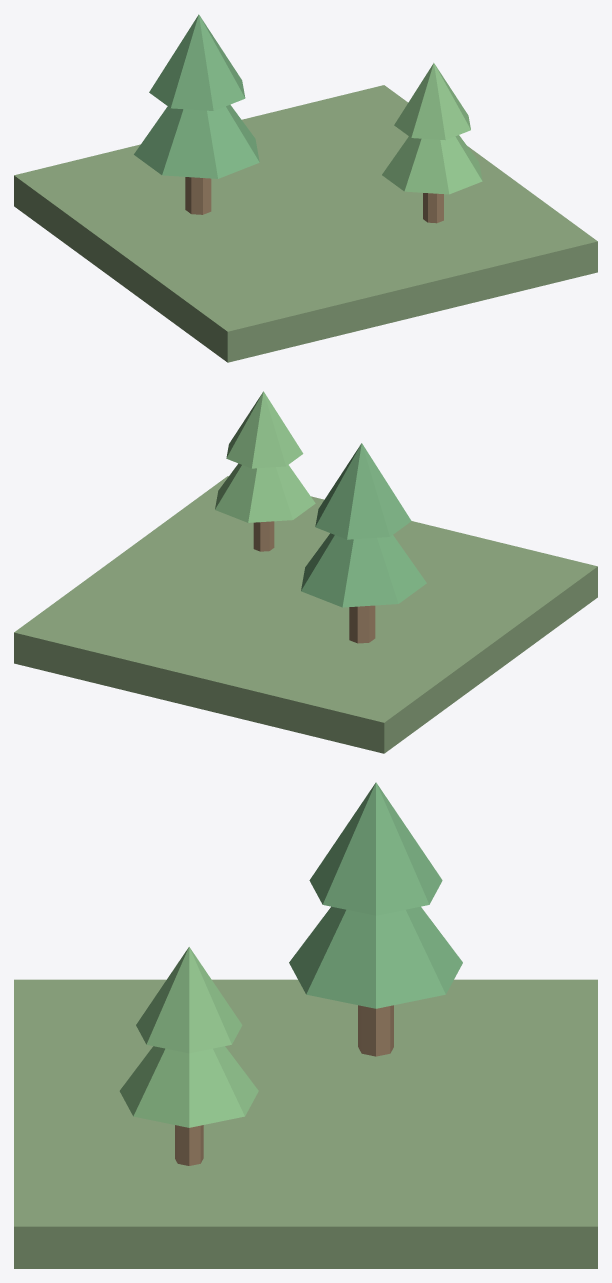
Rendered from forest.glb.
3 views of the same model, one above another, from view 1: azimuth 30°, elevation 25°; view 2: azimuth 150°, elevation 25°; view 3: azimuth 270°, elevation 25° (orthographic). The views are drawn at different scales.
Visible parts, largest first — view 1: forest_floor, foliage_lower_a, foliage_upper_a, foliage_lower_b, foliage_upper_b, trunk_a, trunk_b; view 2: forest_floor, foliage_lower_a, foliage_upper_a, foliage_lower_b, foliage_upper_b, trunk_a, trunk_b; view 3: forest_floor, foliage_lower_a, foliage_upper_a, foliage_lower_b, foliage_upper_b, trunk_a, trunk_b.
Part boxes in pixels (x1=…): forest_floor: x1=14, y1=85, x2=597, y2=362; foliage_lower_a: x1=134, y1=104, x2=259, y2=178; foliage_upper_a: x1=149, y1=14, x2=245, y2=110; foliage_lower_b: x1=382, y1=135, x2=482, y2=194; foliage_upper_b: x1=394, y1=63, x2=470, y2=140; trunk_a: x1=185, y1=177, x2=211, y2=214; trunk_b: x1=423, y1=193, x2=443, y2=223; forest_floor: x1=14, y1=476, x2=597, y2=753; foliage_lower_a: x1=301, y1=533, x2=426, y2=607; foliage_upper_a: x1=315, y1=443, x2=411, y2=539; foliage_lower_b: x1=215, y1=463, x2=315, y2=522; foliage_upper_b: x1=226, y1=391, x2=303, y2=468; trunk_a: x1=349, y1=605, x2=375, y2=643; trunk_b: x1=253, y1=521, x2=274, y2=551; forest_floor: x1=14, y1=979, x2=597, y2=1268; foliage_lower_a: x1=289, y1=906, x2=462, y2=1008; foliage_upper_a: x1=309, y1=782, x2=442, y2=915; foliage_lower_b: x1=119, y1=1046, x2=258, y2=1127; foliage_upper_b: x1=136, y1=947, x2=242, y2=1053; trunk_a: x1=358, y1=1005, x2=393, y2=1056; trunk_b: x1=175, y1=1125, x2=203, y2=1165.
Bounding box in the file's own units: 1 × 0.584 × 1.
